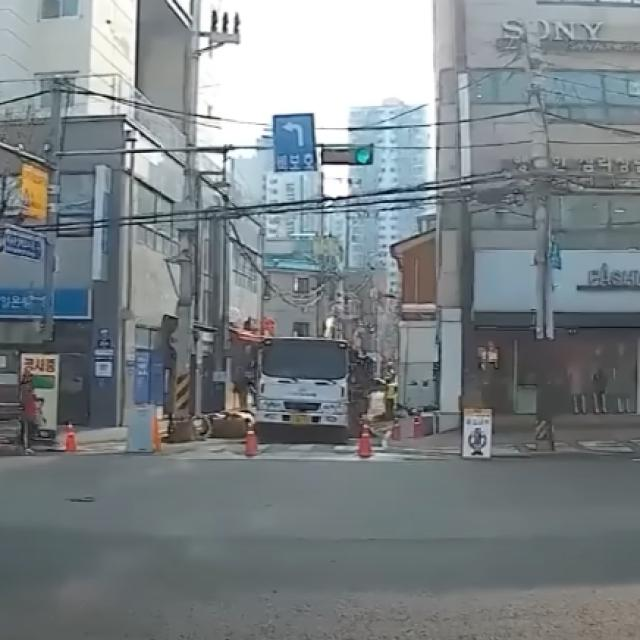Green Light: (354, 147, 372, 165)
